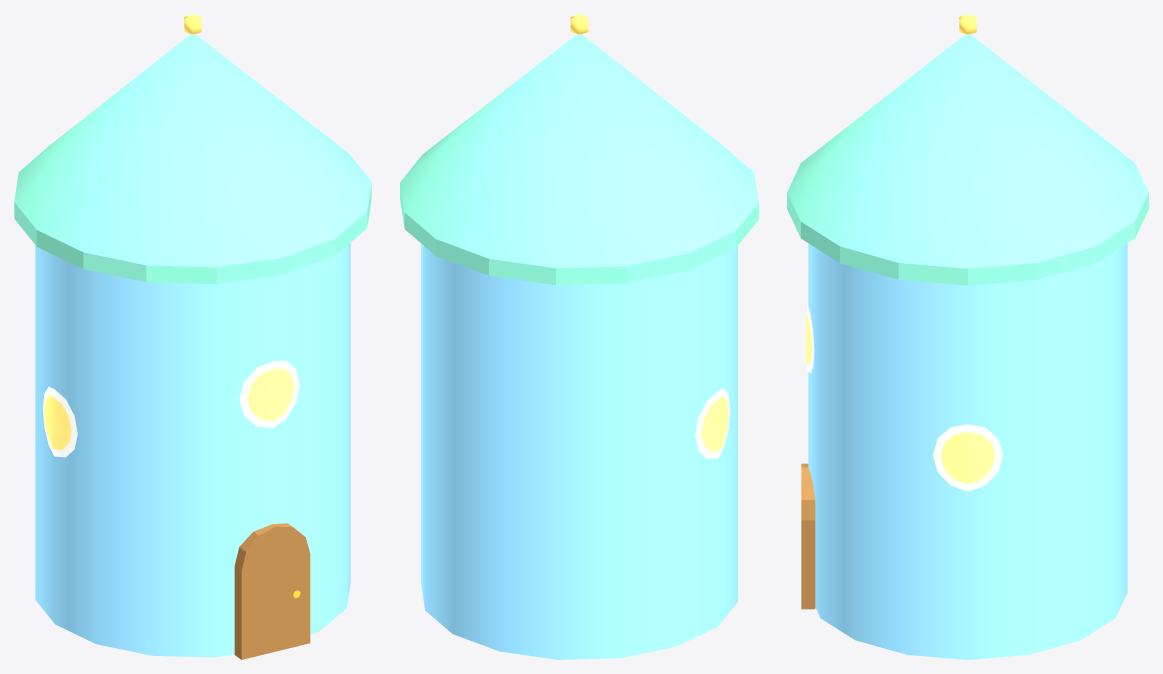
The model's file is block-house-b.glb.
The picture shows the model from 3 angles, left to right: view 1: azimuth 30°, elevation 25°; view 2: azimuth 150°, elevation 25°; view 3: azimuth 270°, elevation 25°; orthographic projection.
Parts seen in each view (by area): view 1: block-house-b; view 2: block-house-b; view 3: block-house-b.
Part boxes in pixels (<box>): block-house-b: <box>14,14,371,659</box>; block-house-b: <box>400,14,758,659</box>; block-house-b: <box>787,14,1148,659</box>.
Bounding box in the file's own units: 6.8 × 12 × 6.8.
